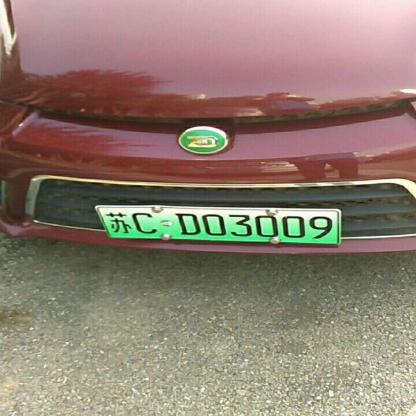lp: (99, 207, 337, 242)
